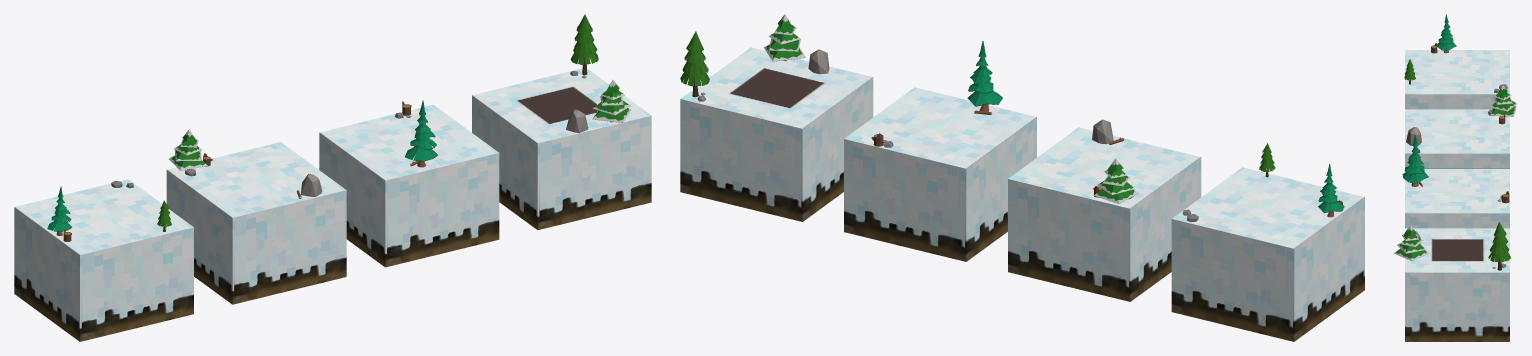
Rendered from zona2.fbx.
3 renders of one model, left to right at view 1: azimuth 30°, elevation 25°; view 2: azimuth 150°, elevation 25°; view 3: azimuth 270°, elevation 25°, orthographic. The views are drawn at different scales.
Visible parts, largest first — view 1: zona_1, zona_2, zona_3, zona_4, tree, tree5, Tree2, tree3, tree4; view 2: zona_1, zona_3, zona_4, zona_2, tree, tree5, Tree2, tree3, tree4; view 3: zona_4, zona_3, zona_1, zona_2, tree, tree5, Tree2, tree3, tree4, Rock4, tree6.
Part boxes in pixels (left/top/right/bottom): zona_1: left=14, top=179, right=193, bottom=341; zona_2: left=166, top=142, right=346, bottom=304; zona_3: left=319, top=104, right=499, bottom=267; zona_4: left=472, top=68, right=651, bottom=229; tree: left=592, top=79, right=631, bottom=122; tree5: left=405, top=100, right=437, bottom=167; Tree2: left=570, top=14, right=598, bottom=75; tree3: left=169, top=129, right=207, bottom=170; tree4: left=47, top=186, right=72, bottom=235; zona_1: left=1171, top=167, right=1364, bottom=341; zona_3: left=844, top=87, right=1036, bottom=261; zona_4: left=680, top=47, right=873, bottom=221; zona_2: left=1008, top=127, right=1201, bottom=301; tree: left=764, top=14, right=805, bottom=61; tree5: left=967, top=41, right=1002, bottom=111; Tree2: left=680, top=31, right=709, bottom=97; tree3: left=1093, top=158, right=1138, bottom=203; tree4: left=1318, top=163, right=1344, bottom=217; zona_4: left=1405, top=228, right=1509, bottom=341; zona_3: left=1405, top=168, right=1509, bottom=228; zona_1: left=1405, top=50, right=1509, bottom=109; zona_2: left=1405, top=109, right=1509, bottom=168; tree: left=1393, top=225, right=1429, bottom=260; tree5: left=1402, top=134, right=1428, bottom=186; Tree2: left=1488, top=222, right=1510, bottom=270; tree3: left=1489, top=85, right=1517, bottom=116; tree4: left=1437, top=14, right=1456, bottom=53; Rock4: left=1406, top=127, right=1421, bottom=145; tree6: left=1404, top=59, right=1415, bottom=84.
Bounding box in the file's own units: 93.5 × 23.26 × 21.6.
Materials: 35 (4 with a texture image).
